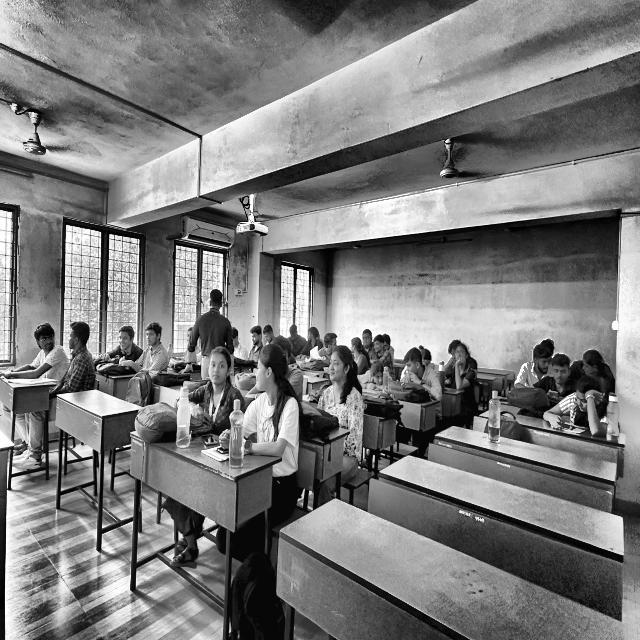Focus: (326, 347, 357, 386), (143, 321, 166, 354), (451, 340, 470, 369)
Not Focus: (253, 341, 291, 396), (571, 382, 607, 420), (34, 318, 60, 361), (207, 344, 230, 388), (400, 347, 430, 380), (551, 354, 573, 396), (581, 344, 607, 378), (114, 322, 137, 355), (368, 363, 391, 395), (65, 318, 84, 356), (531, 342, 553, 374), (206, 285, 226, 315)
